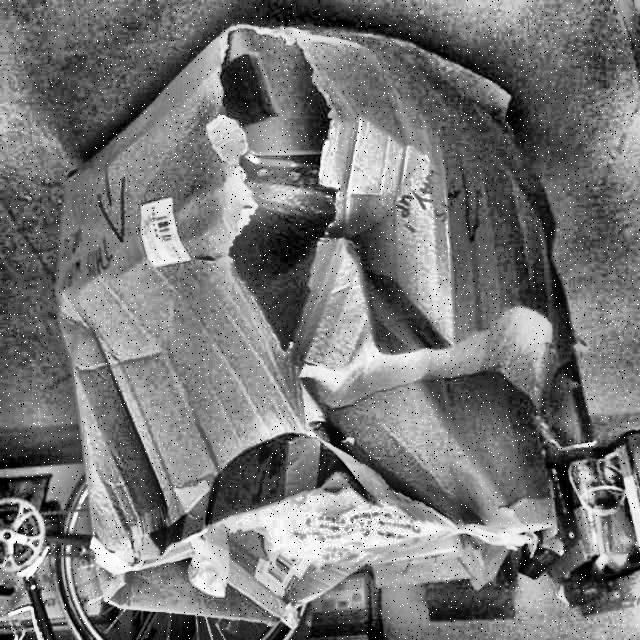box: (49, 17, 598, 633)
hole: (210, 21, 344, 349)
